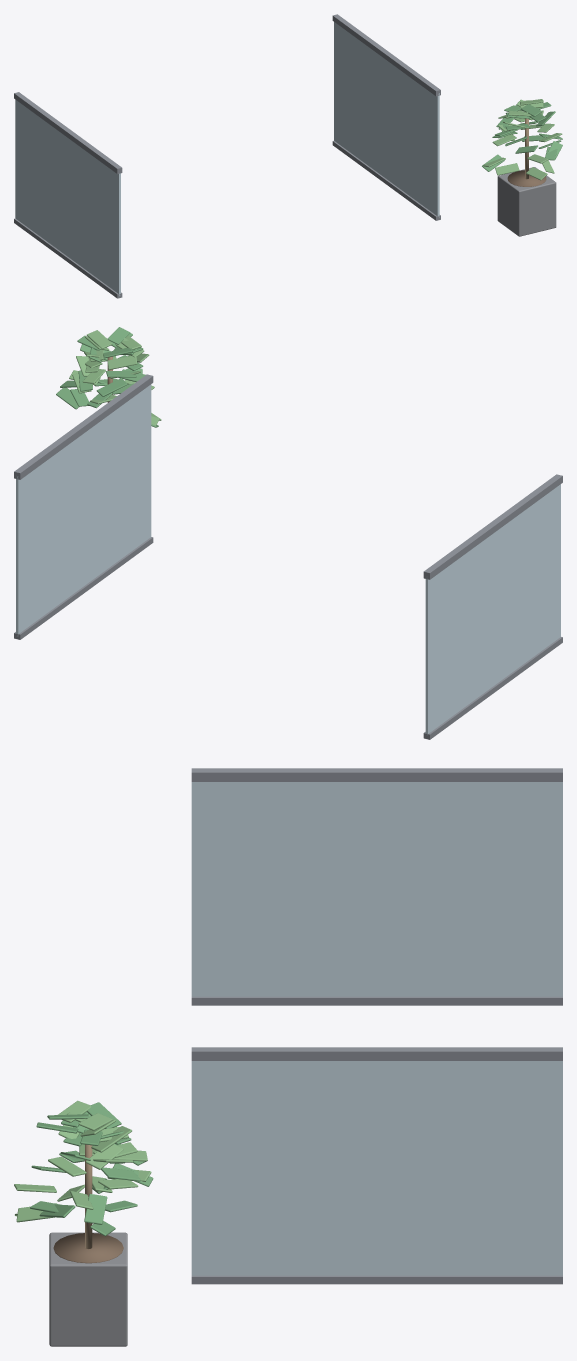
Rendered from oficina.rincon.fbx.
3 views of the same model, one above another, from view 1: azimuth 30°, elevation 25°; view 2: azimuth 150°, elevation 25°; view 3: azimuth 270°, elevation 25° (orthographic). The views are drawn at different scales.
Parts seen in each view (by area): view 1: Vidrio, Vidrio.001, Macetero, Perfil, Perfil.002, Perfil.003, Perfil.001, Tierra; view 2: Vidrio, Vidrio.001, Perfil, Perfil.002, Perfil.001, Perfil.003; view 3: Vidrio, Vidrio.001, Macetero, Perfil, Perfil.002, Perfil.003, Perfil.001, Tierra.
Boxes of the visible parts, x1,y1,x2,y2 form: Vidrio: (334,22,439,217); Vidrio.001: (15,99,120,295); Macetero: (497,167,556,236); Perfil: (332,14,440,96); Perfil.002: (14,92,122,173); Perfil.003: (14,218,122,298); Perfil.001: (332,141,440,220); Tierra: (507,170,546,186); Vidrio: (16,384,151,636); Vidrio.001: (425,484,560,735); Perfil: (14,374,153,479); Perfil.002: (423,474,562,579); Perfil.001: (14,537,153,639); Perfil.003: (423,637,562,739); Vidrio: (191,1061,562,1275); Vidrio.001: (191,782,562,996); Macetero: (49,1232,127,1346); Perfil: (191,1047,562,1060); Perfil.002: (191,768,562,781); Perfil.003: (191,996,562,1005); Perfil.001: (191,1275,562,1284); Tierra: (53,1233,123,1263).
Bounding box in the file's own units: 4.2 × 1.25 × 2.66.
